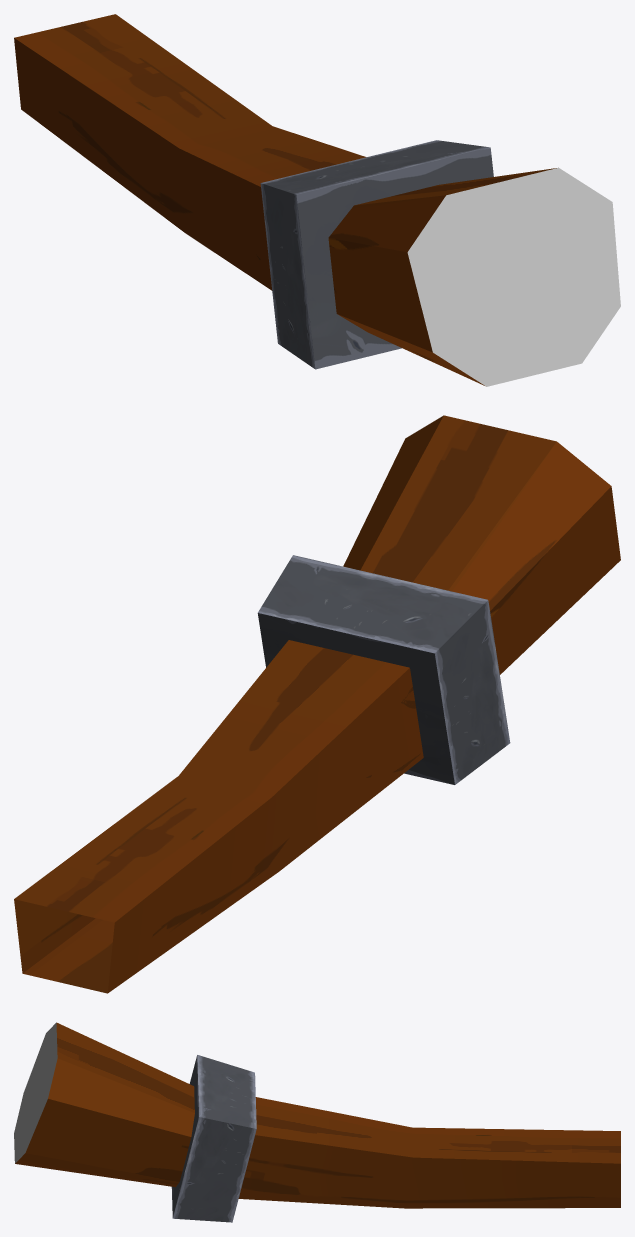
Rendered from SM_BLD_beam_small_v06_03.fbx.
3 renders of one model, top to bottom at view 1: azimuth 30°, elevation 25°; view 2: azimuth 150°, elevation 25°; view 3: azimuth 270°, elevation 25°, orthographic. The views are drawn at different scales.
Parts seen in each view (by area): view 1: SM_BLD_beam_small_v06_03; view 2: SM_BLD_beam_small_v06_03; view 3: SM_BLD_beam_small_v06_03.
Part boxes in pixels (x1,y1,x2,y2): SM_BLD_beam_small_v06_03: [14, 14, 620, 386]; SM_BLD_beam_small_v06_03: [14, 415, 620, 993]; SM_BLD_beam_small_v06_03: [14, 1022, 620, 1222].
Size of the model in its own units: 85.76 by 95.55 by 339.
